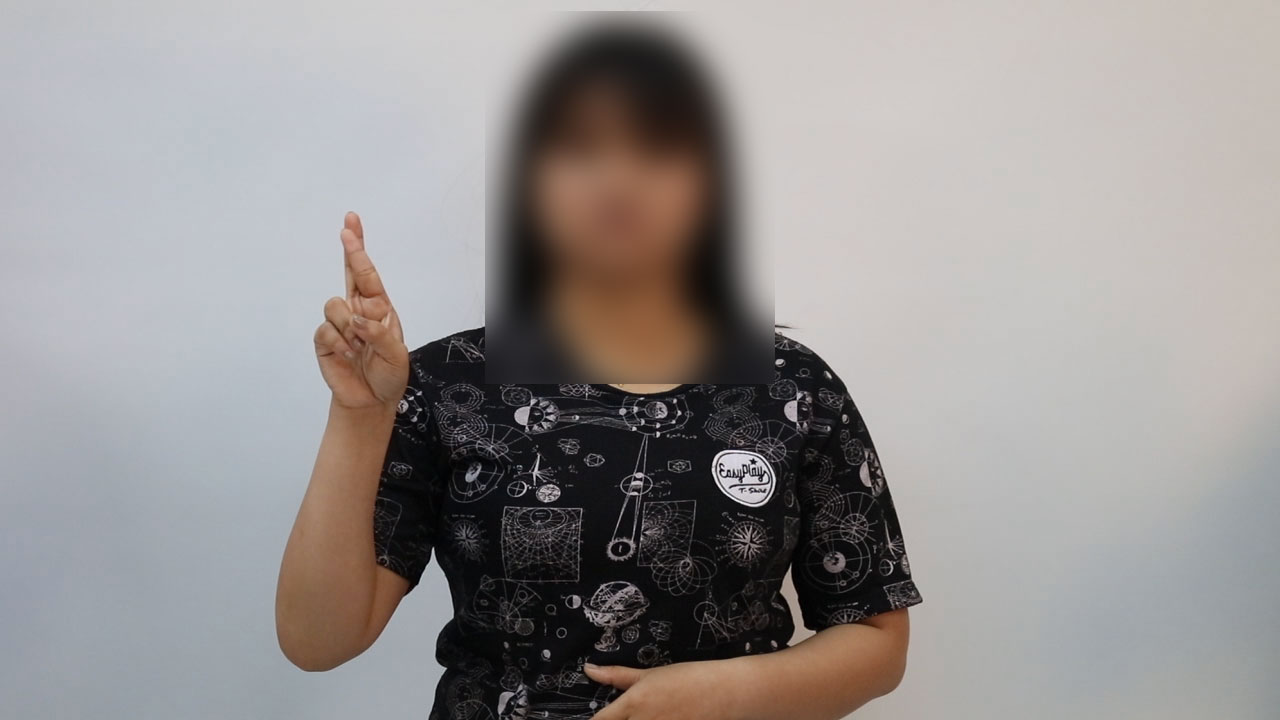rao: (300, 203, 428, 424)
